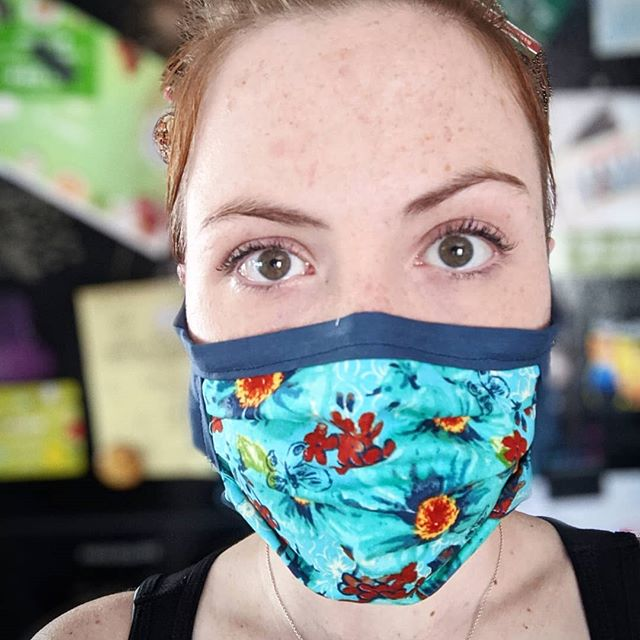homemade: (179, 322, 553, 603)
